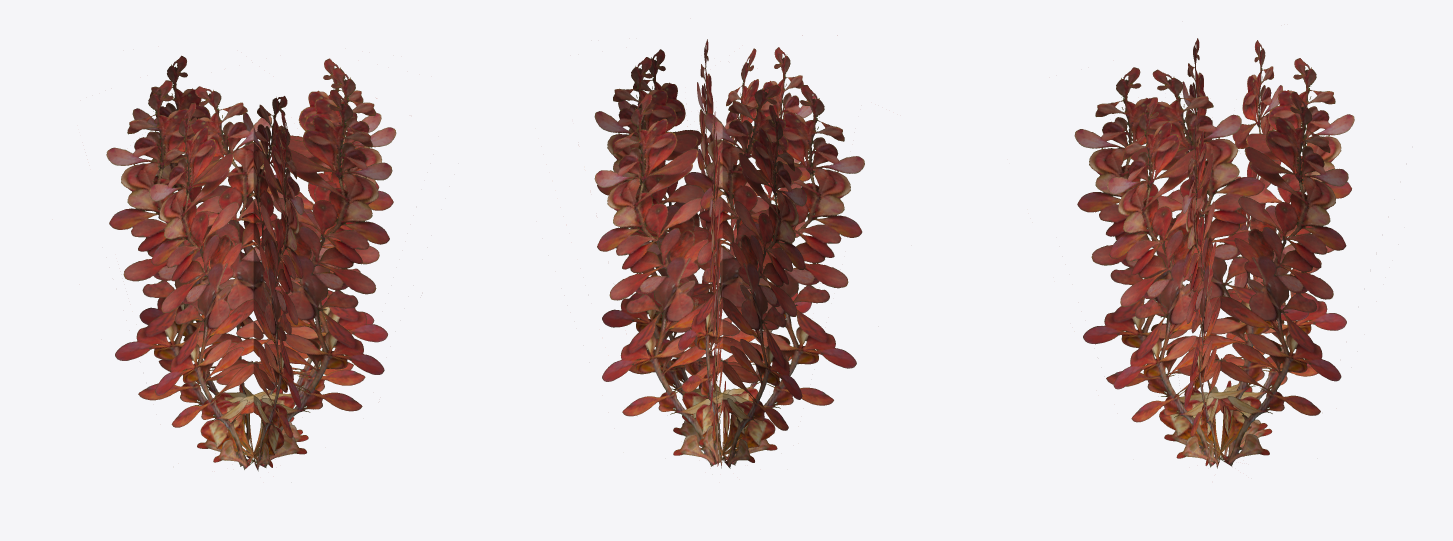
File: bush13.FBX
The picture shows the model from 3 angles, left to right: view 1: azimuth 30°, elevation 25°; view 2: azimuth 150°, elevation 25°; view 3: azimuth 270°, elevation 25°; orthographic projection.
Visible parts, largest first — view 1: bush13; view 2: bush13; view 3: bush13.
Boxes of the visible parts, box(x1,y1,x2,y2) form: bush13: box(106, 55, 396, 471); bush13: box(594, 35, 864, 468); bush13: box(1074, 38, 1354, 468).
Bounding box in the file's own units: 2.05 × 2.08 × 1.97.
